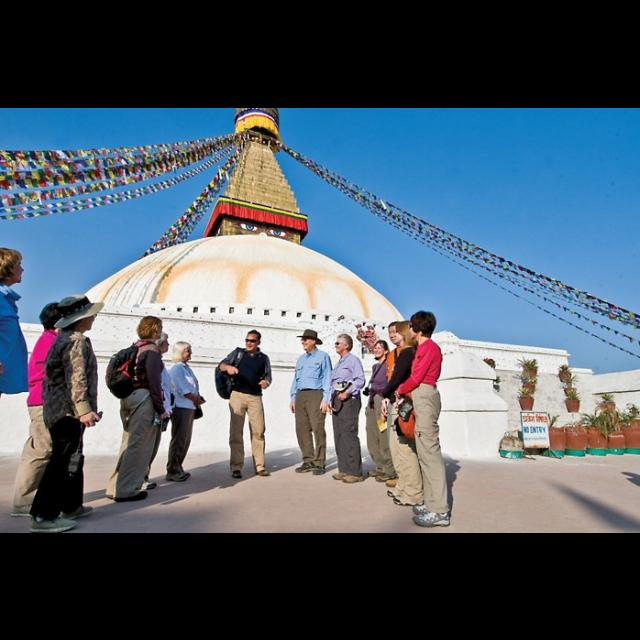head: (43, 302, 73, 334), (0, 246, 24, 285), (66, 300, 96, 330), (408, 311, 436, 341), (394, 320, 421, 344), (141, 316, 165, 340), (172, 341, 194, 361), (152, 333, 172, 355), (245, 328, 262, 352), (335, 334, 355, 354), (388, 322, 404, 344), (374, 340, 391, 360), (302, 334, 318, 350)
person: (27, 291, 107, 531), (8, 300, 76, 518), (394, 308, 454, 528), (104, 313, 170, 505), (381, 317, 429, 507), (214, 327, 274, 479), (0, 243, 34, 502), (126, 327, 172, 491), (286, 326, 334, 476), (386, 319, 426, 493), (328, 332, 370, 484), (362, 338, 402, 482), (167, 339, 207, 481)
